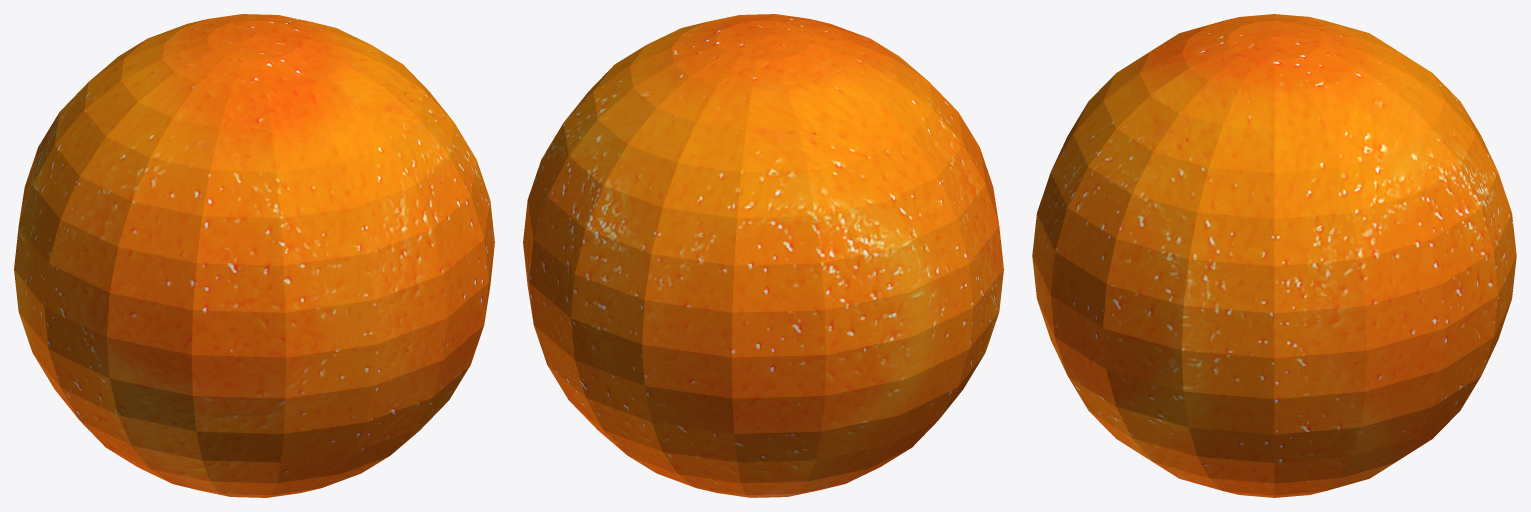
File: orange.fbx
The picture shows the model from 3 angles, left to right: view 1: azimuth 30°, elevation 25°; view 2: azimuth 150°, elevation 25°; view 3: azimuth 270°, elevation 25°; orthographic projection.
Visible parts, largest first — view 1: Orange.001, Orange.006, Orange.002, Orange.004, Orange.003; view 2: Orange.004, Orange.005, Orange.003, Orange.001, Orange.006, Orange.002; view 3: Orange.003, Orange.002, Orange.004, Orange.006, Orange.001, Orange.005.
Boxes of the visible parts, x1,y1,x2,y2 form: Orange.001: [14, 145, 446, 497]; Orange.006: [55, 36, 414, 218]; Orange.002: [255, 36, 494, 453]; Orange.004: [18, 14, 254, 225]; Orange.003: [243, 14, 452, 120]; Orange.004: [575, 36, 908, 312]; Orange.005: [571, 274, 910, 497]; Orange.003: [523, 21, 762, 453]; Orange.001: [846, 112, 1003, 483]; Orange.006: [763, 14, 963, 201]; Orange.002: [708, 14, 774, 35]; Orange.003: [1181, 36, 1498, 497]; Orange.002: [1050, 36, 1273, 490]; Orange.004: [1275, 17, 1511, 250]; Orange.006: [1073, 14, 1308, 166]; Orange.001: [1032, 103, 1088, 374]; Orange.005: [1481, 214, 1516, 374].
Size of the model in its own units: 0.8 by 0.8 by 0.8.
